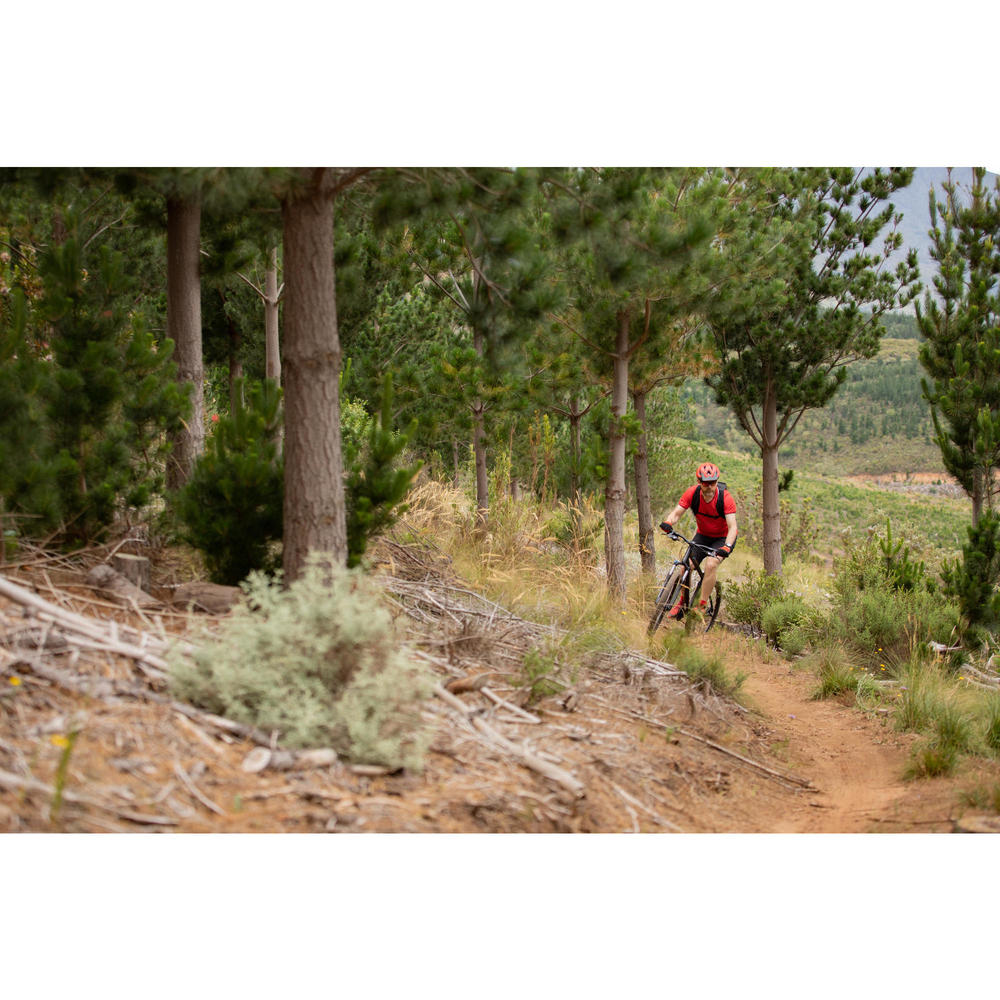MountainBike: (641, 525, 737, 656)
